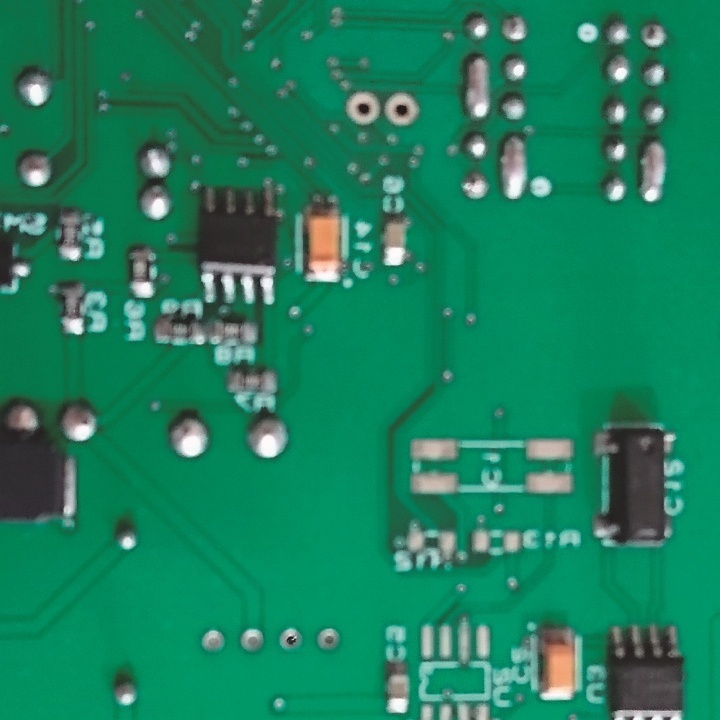F: (382, 90, 416, 130), (344, 88, 381, 124), (236, 625, 267, 658), (311, 623, 342, 655), (277, 624, 305, 658), (459, 171, 489, 201), (500, 12, 525, 46), (639, 20, 668, 49), (199, 626, 228, 655)
P: (463, 53, 490, 122), (499, 132, 526, 200), (639, 135, 664, 208)
